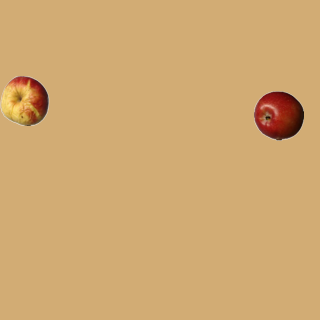Apple Braeburn: (253, 90, 303, 140)
Apple Red Yellow 1: (0, 75, 49, 125)
